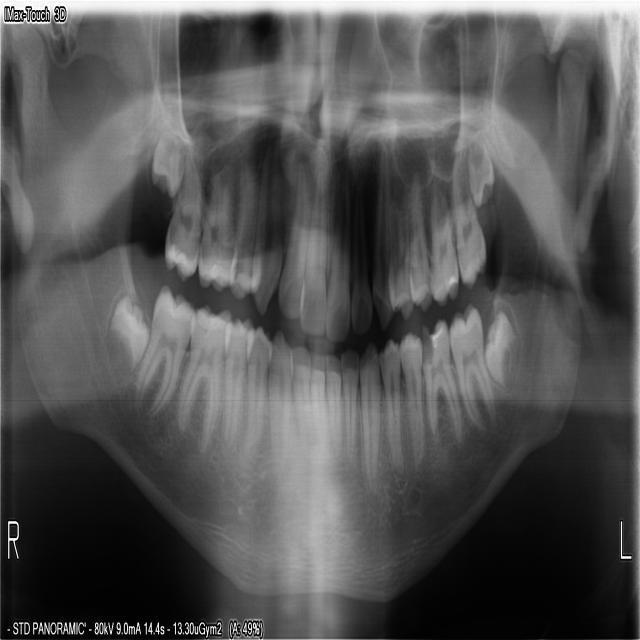LCD: (358, 339, 379, 494)
LCU: (369, 139, 395, 333)
LID: (339, 346, 358, 466), (323, 352, 341, 470)
LIU: (322, 160, 349, 343), (348, 171, 372, 336)
LMD: (445, 301, 496, 429), (417, 315, 462, 444), (482, 307, 518, 390)
LMU: (449, 145, 487, 291), (427, 157, 458, 307), (466, 132, 494, 210)
LPMD: (377, 335, 404, 478), (397, 327, 423, 470)
LPMU: (386, 145, 415, 323), (407, 164, 432, 314)
RCD: (266, 326, 292, 491)
RCU: (248, 133, 283, 320)
RID: (288, 342, 311, 482), (306, 349, 328, 465)
RIU: (275, 154, 312, 321), (296, 143, 327, 338)
RMD: (175, 301, 231, 454), (133, 283, 194, 418), (106, 290, 148, 372)
RMU: (194, 142, 238, 292), (160, 150, 203, 285), (148, 118, 184, 201)
RPMD: (239, 323, 271, 472), (220, 313, 253, 455)
RPMU: (226, 145, 261, 302)
